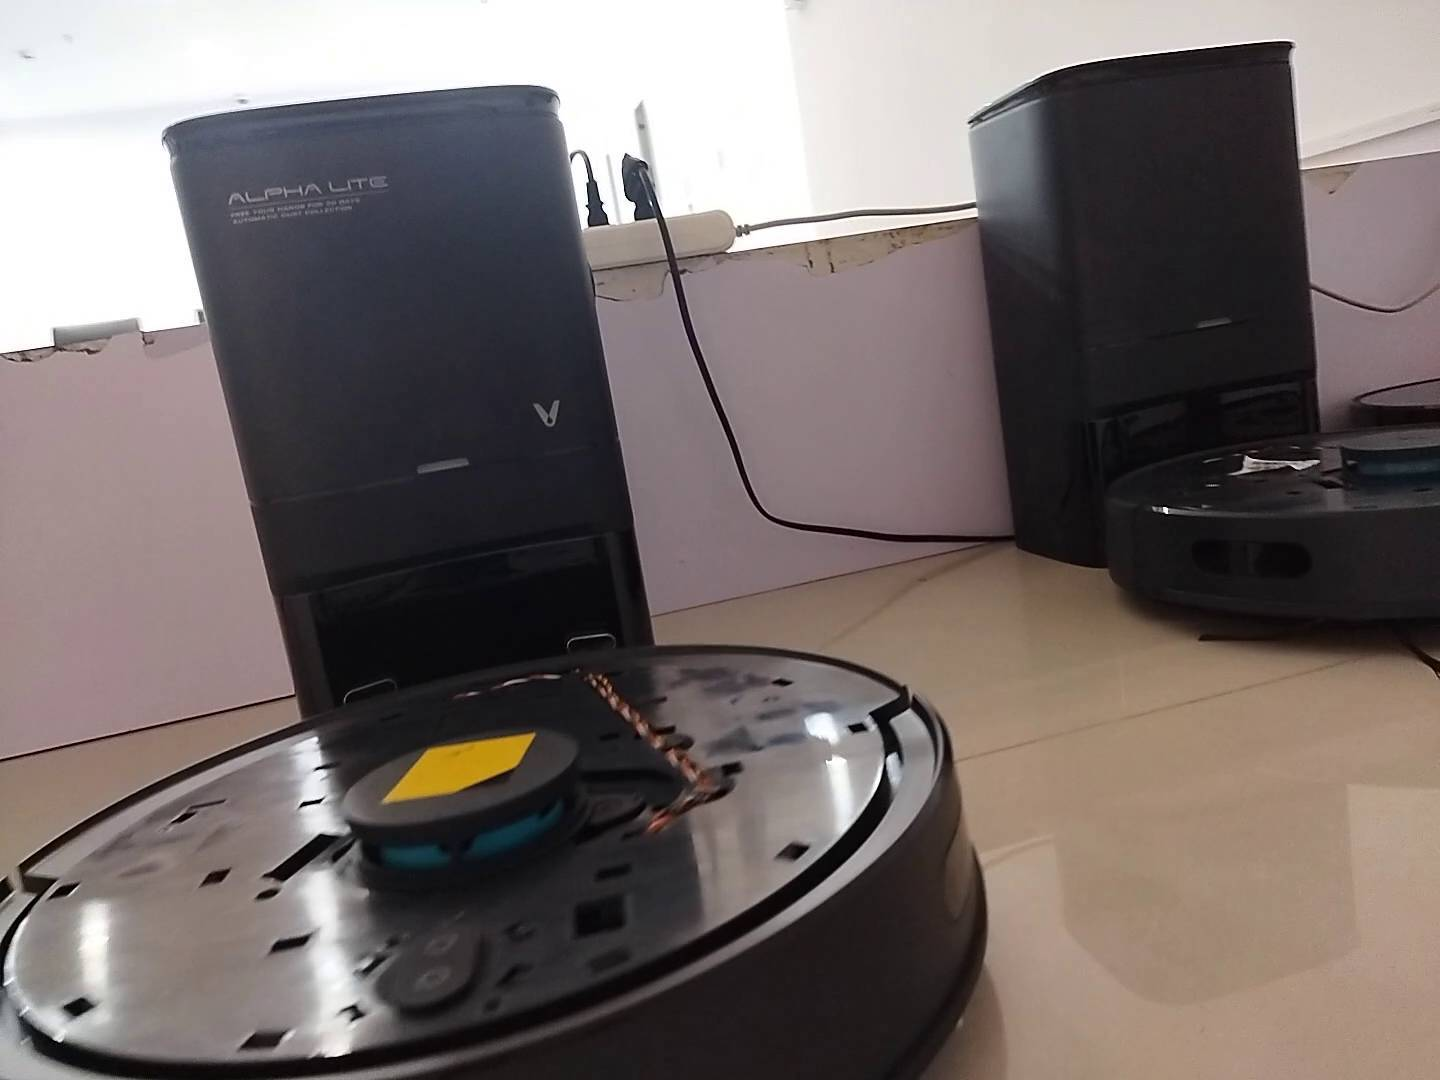dust collecting barrel: (161, 83, 655, 718), (966, 41, 1321, 569)
